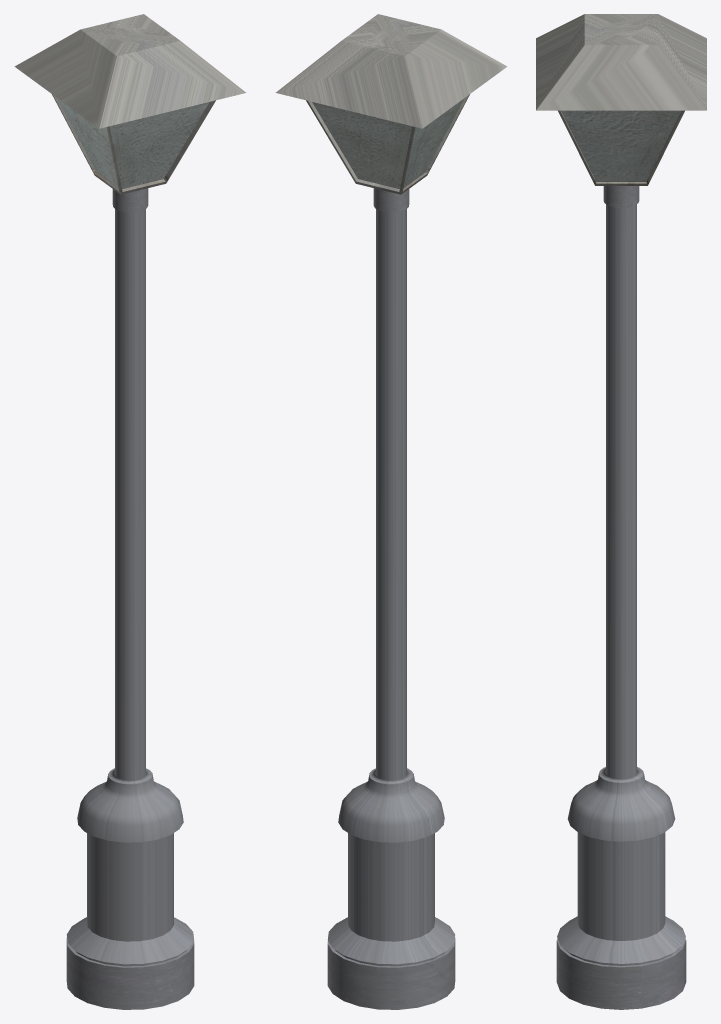
File: streetlampg.glb
3 renders of one model, left to right at view 1: azimuth 30°, elevation 25°; view 2: azimuth 150°, elevation 25°; view 3: azimuth 270°, elevation 25°, orthographic.
Parts seen in each view (by area): view 1: pCylinder1, pCube1, pCylinder2; view 2: pCylinder1, pCube1, pCylinder2; view 3: pCylinder1, pCube1, pCylinder2.
Boxes of the visible parts, x1,y1,x2,y2 form: pCylinder1: (66,209,194,1009); pCube1: (14,14,246,194); pCylinder2: (112,188,148,212); pCylinder1: (327,209,455,1009); pCube1: (275,14,507,194); pCylinder2: (373,188,409,212); pCylinder1: (556,204,686,1009); pCube1: (536,14,706,185); pCylinder2: (603,186,639,207).
Bounding box in the file's own units: 1.68 × 10.37 × 1.68.
Materials: 4 (4 with a texture image).
